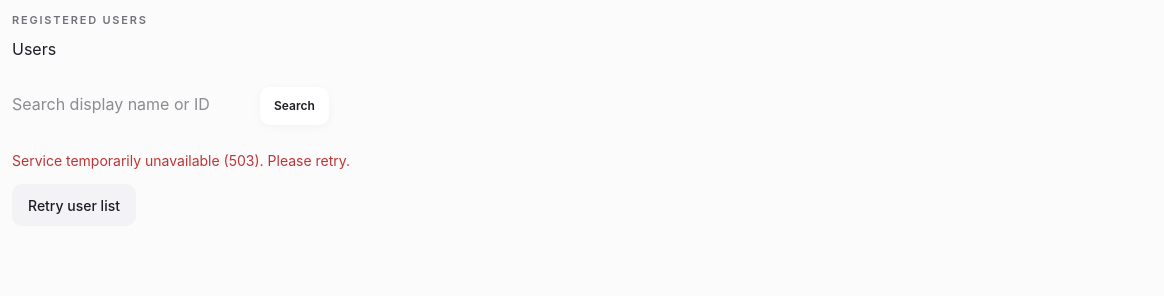
Test: distinguishes load failure, retry and an empty list
Check: the message shows "Service temporarily unavailable", box [12,152,350,168]
Click the button "Retry user list". click: (74, 205)
box: [12,184,136,226]
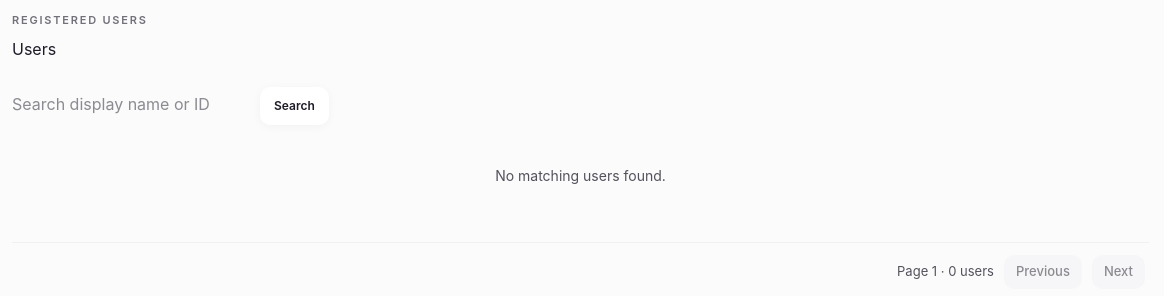
Check: the text "No matching users found." is shown, box [495,166,666,184]
